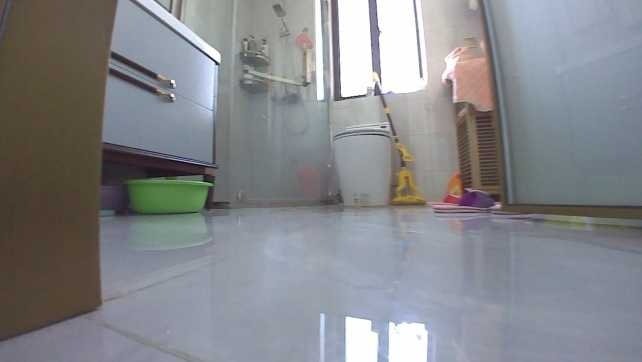slipper: (430, 185, 502, 214)
toilet: (330, 120, 394, 207)
